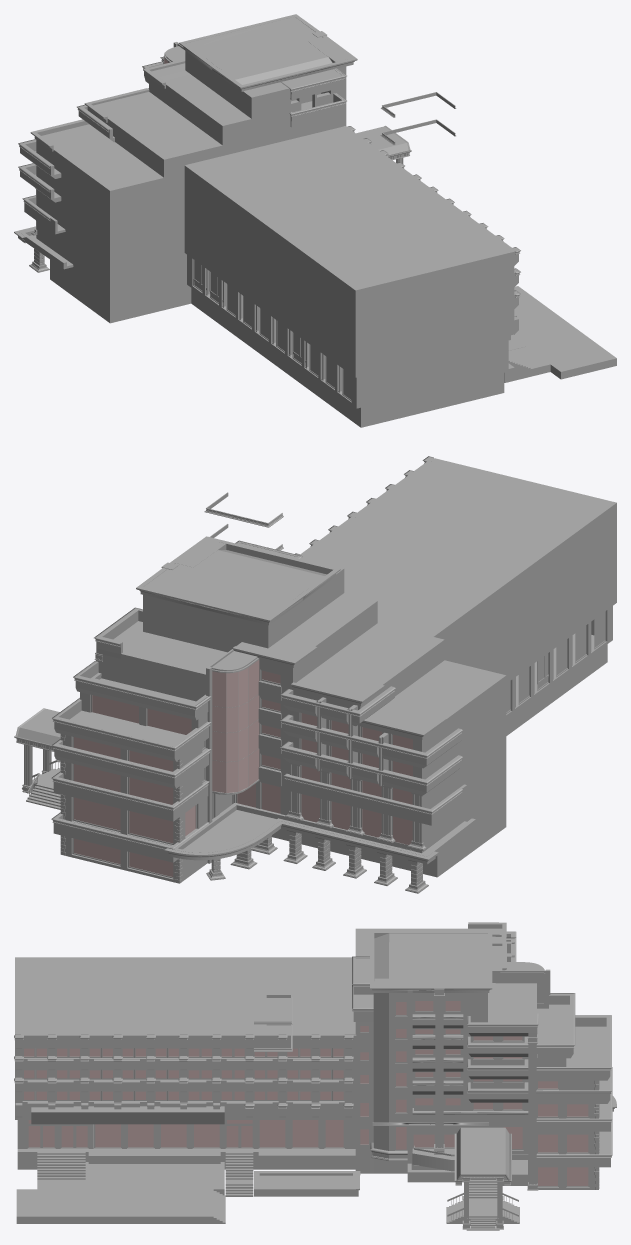
Rendered from hotel1.FBX.
3 renders of one model, top to bottom at view 1: azimuth 30°, elevation 25°; view 2: azimuth 150°, elevation 25°; view 3: azimuth 270°, elevation 25°, orthographic. The views are drawn at different scales.
Parts seen in each view (by area): view 1: Plane002, Plane001, Box162, Object017, Object090, Line012, Box114, Object084, Object018, Box101, Box158, Line002; view 2: Plane001, Plane002, Object107, Object108, Object015, Object084, Line002, Group024, Box162, Line012, Object085, Box009 (+27 smaller); view 3: Plane002, Plane001, Object106, Object017, Box162, Group024, Object098, Object104, Box163, Box367, Box164, Box101 (+25 smaller).
Part boxes in pixels (x1,y1,x2,y2): Plane002: [184, 126, 514, 377]; Plane001: [36, 17, 346, 323]; Box162: [187, 255, 514, 427]; Object017: [511, 286, 616, 379]; Object090: [193, 259, 351, 401]; Line012: [179, 14, 357, 91]; Box114: [282, 68, 344, 127]; Object084: [20, 105, 112, 198]; Object018: [504, 346, 550, 382]; Box101: [356, 126, 408, 155]; Box158: [343, 126, 512, 249]; Line002: [20, 228, 73, 269]; Plane001: [63, 543, 506, 882]; Plane002: [302, 458, 616, 683]; Object107: [74, 695, 191, 876]; Object108: [237, 670, 412, 844]; Object015: [212, 660, 259, 792]; Object084: [282, 686, 462, 792]; Line002: [173, 803, 475, 856]; Group024: [54, 621, 208, 788]; Box162: [506, 606, 612, 735]; Line012: [136, 536, 340, 625]; Object085: [54, 699, 208, 784]; Box009: [285, 774, 466, 825]; Plane002: [15, 957, 356, 1121]; Plane001: [355, 928, 595, 1189]; Object106: [24, 1002, 406, 1149]; Object017: [16, 1189, 225, 1223]; Box162: [17, 1120, 355, 1169]; Group024: [435, 996, 609, 1184]; Object098: [22, 1001, 407, 1150]; Object104: [413, 1029, 588, 1185]; Box163: [85, 1162, 224, 1195]; Box367: [31, 1106, 224, 1124]; Box164: [254, 1171, 360, 1196]; Box101: [456, 1127, 509, 1179].
Size of the model in its own units: 44.16 by 22.74 by 63.26.
